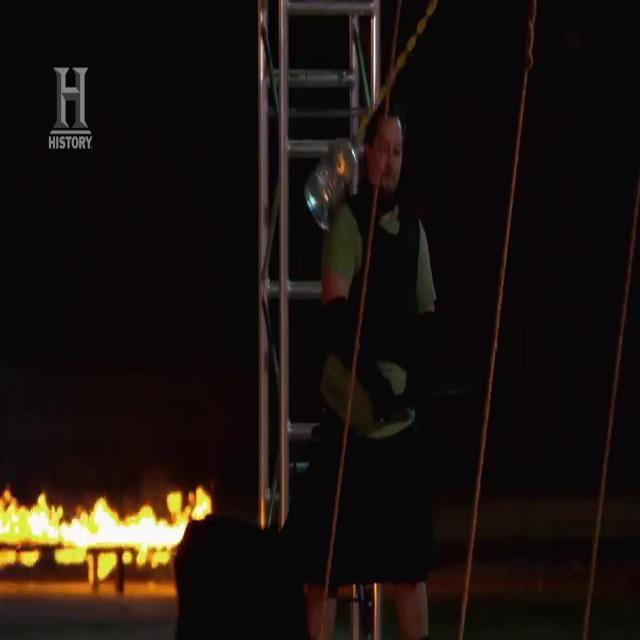Fire: (1, 477, 215, 562)
